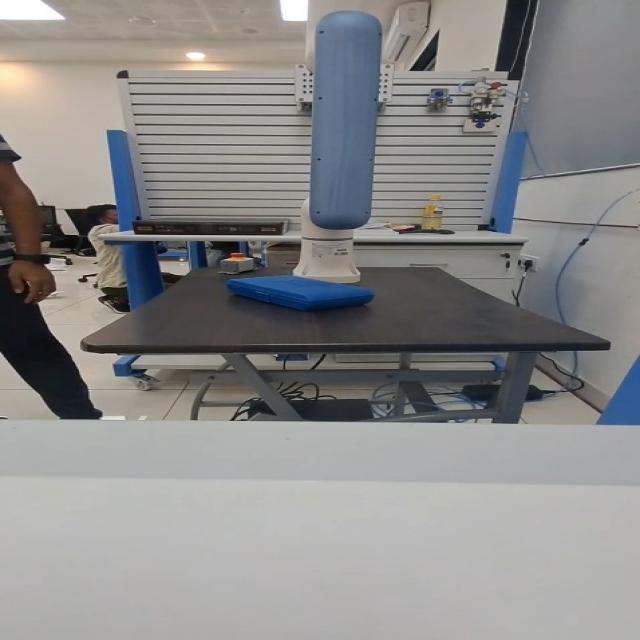top-surface: (245, 275, 342, 293)
